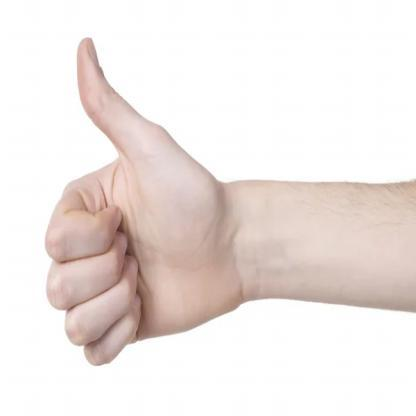thumb_up: (39, 34, 234, 368)
